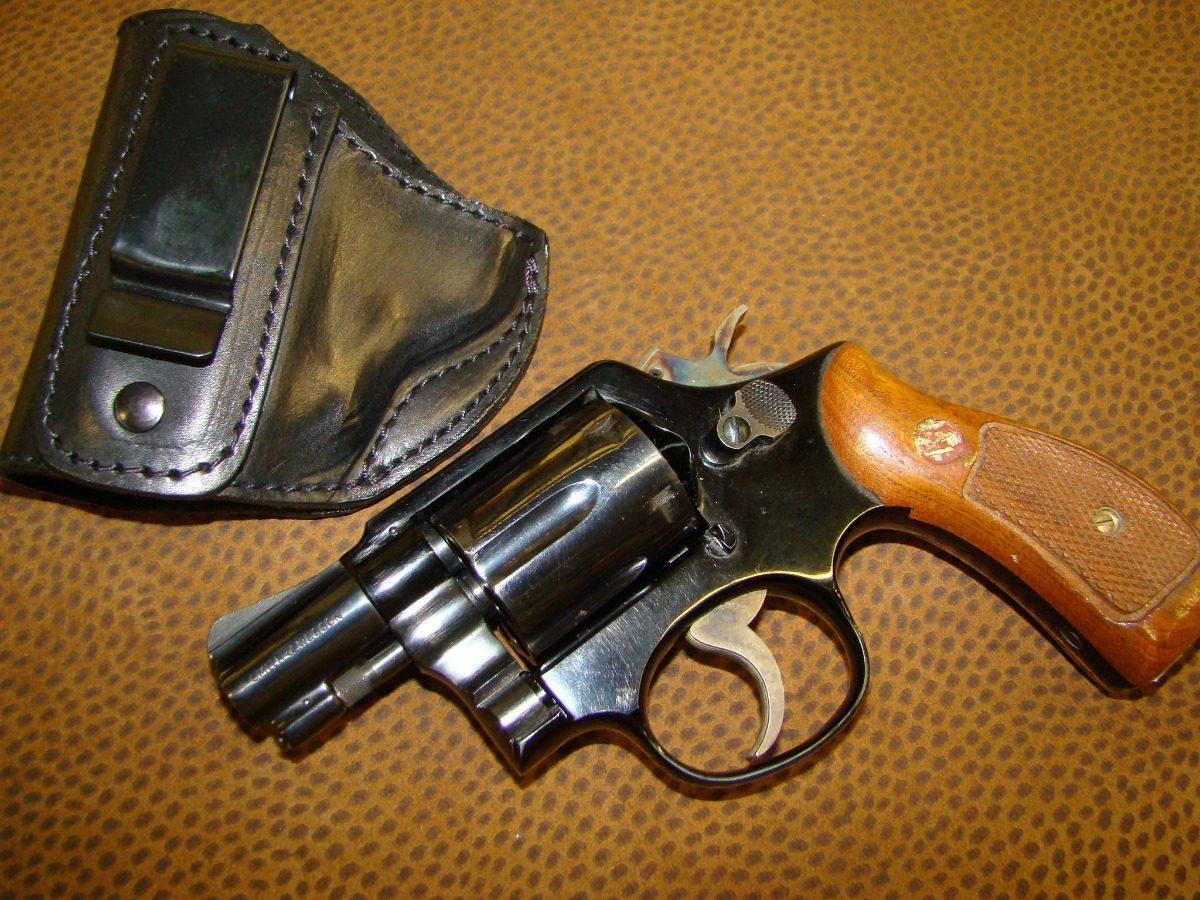Revolver: (158, 309, 1183, 838), (202, 309, 1183, 838), (158, 594, 1091, 838)
